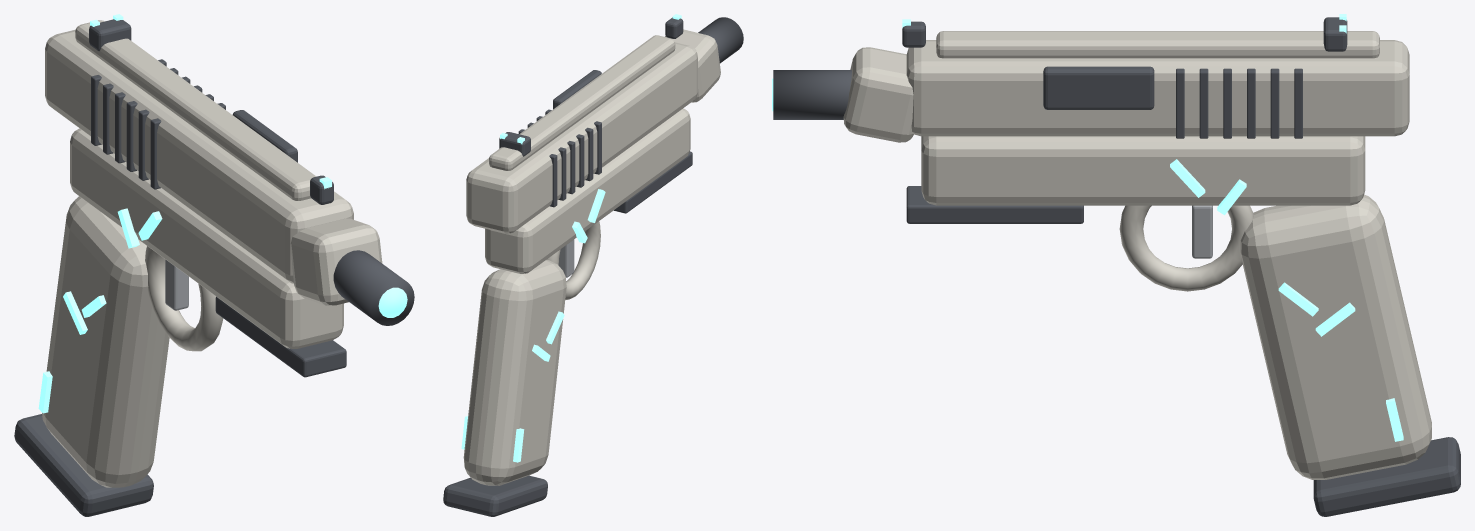
The model's file is sidearm.glb.
The picture shows the model from 3 angles, left to right: view 1: azimuth 30°, elevation 25°; view 2: azimuth 150°, elevation 25°; view 3: azimuth 270°, elevation 25°; orthographic projection. The views are drawn at different scales.
Visible parts, largest first — view 1: weapon_sidearm; view 2: weapon_sidearm; view 3: weapon_sidearm.
Boxes of the visible parts, left/top/right/bottom form: weapon_sidearm: left=14, top=14, right=414, bottom=516; weapon_sidearm: left=443, top=14, right=743, bottom=516; weapon_sidearm: left=772, top=14, right=1460, bottom=516.
Bounding box in the file's own units: 0.062 × 0.3589 × 0.4657.
